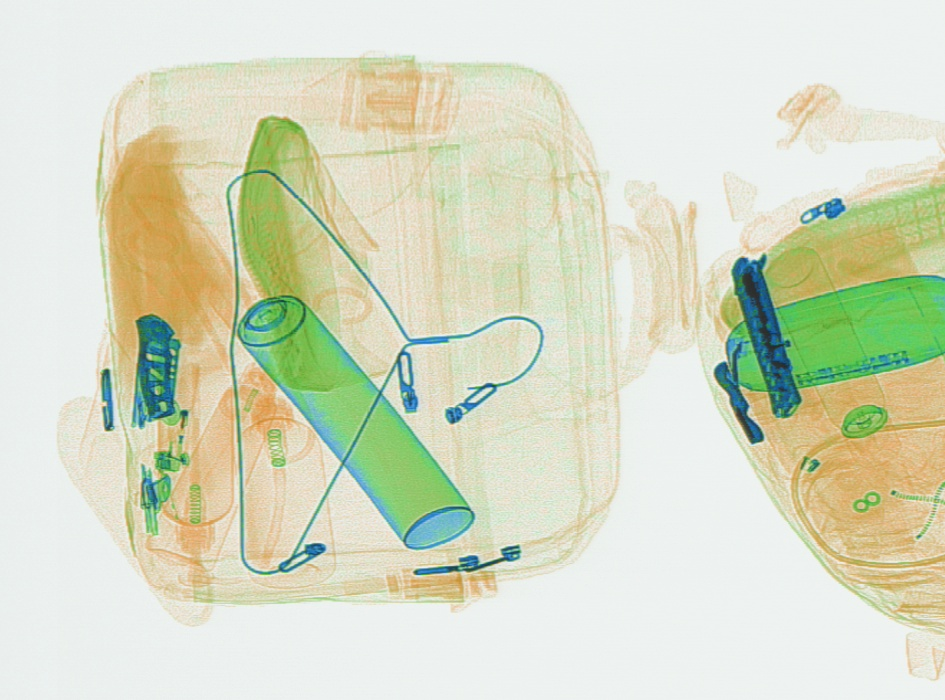knife: (727, 251, 802, 418), (132, 311, 180, 420)
lighter: (152, 358, 199, 471)
pressure: (205, 251, 474, 547), (762, 243, 900, 467)
